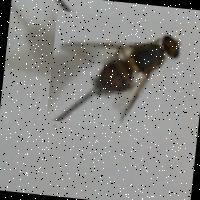Oriental-fruit-fly: (45, 10, 192, 134)
